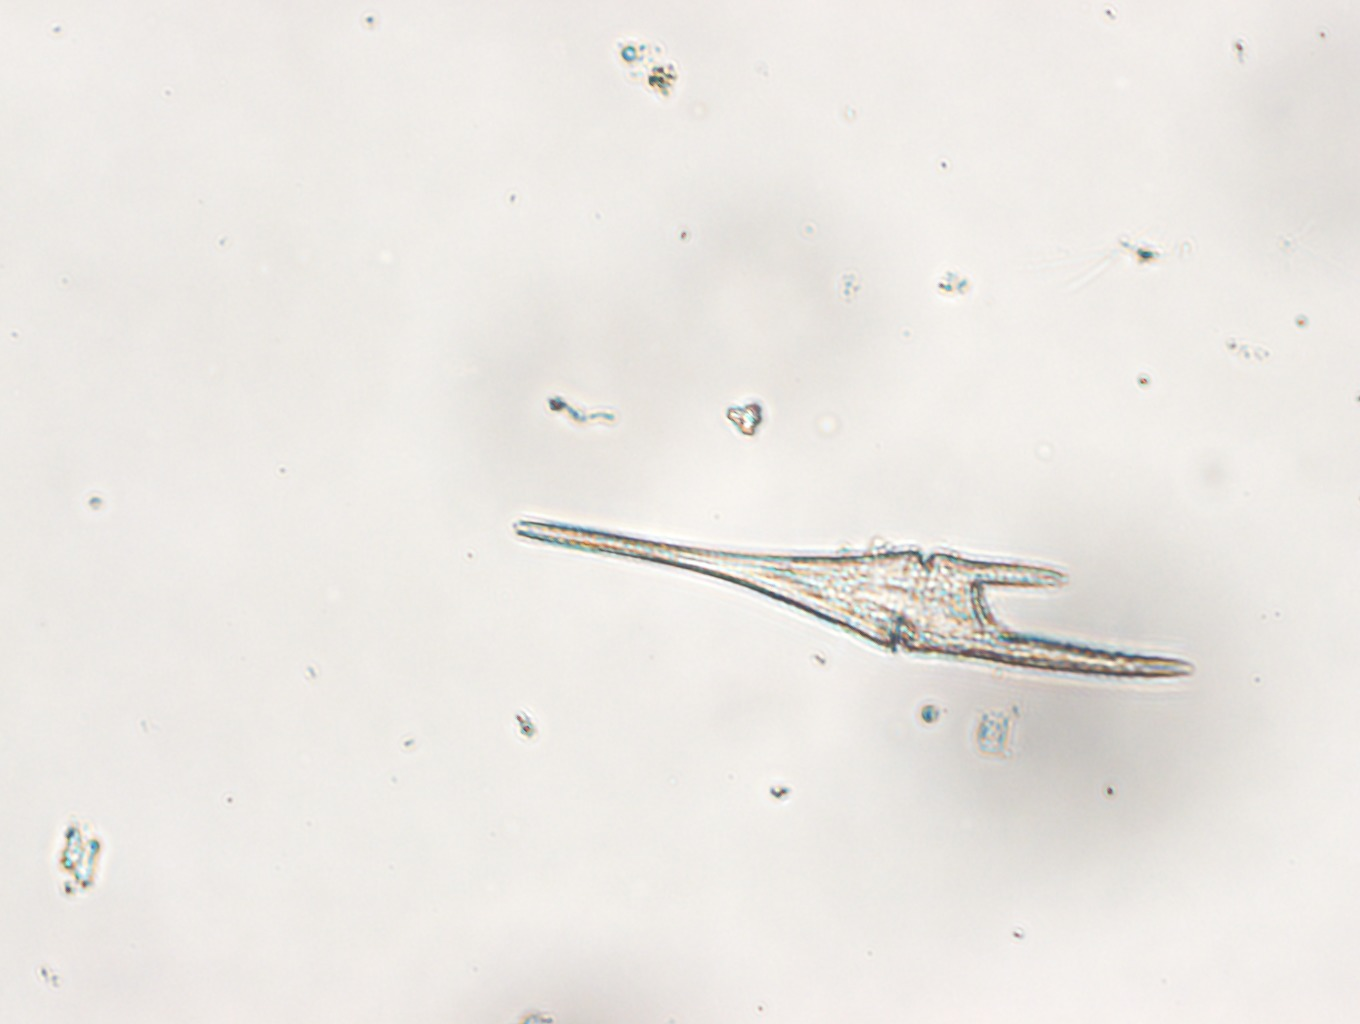ceratium furca: (511, 514, 1197, 681)
